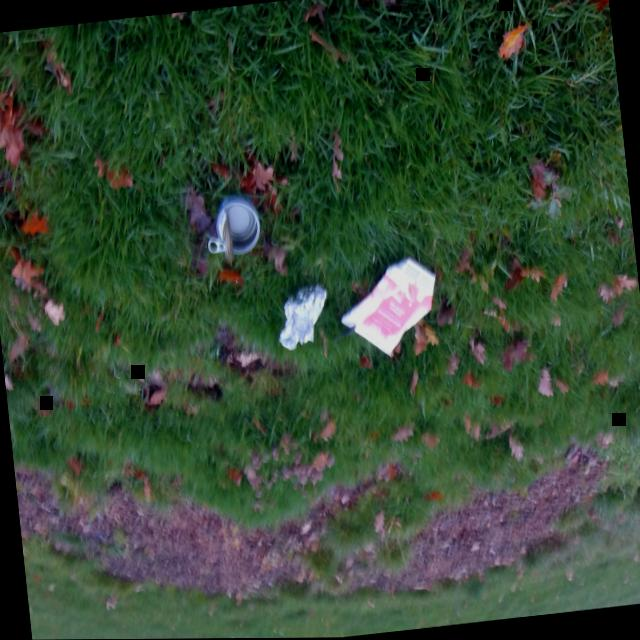Aluminium foil: (279, 283, 327, 351)
Drink carton: (340, 257, 435, 355)
Food Can: (208, 196, 260, 261)
Plastic straw: (334, 327, 355, 341)
Pop tab: (208, 241, 225, 253)
